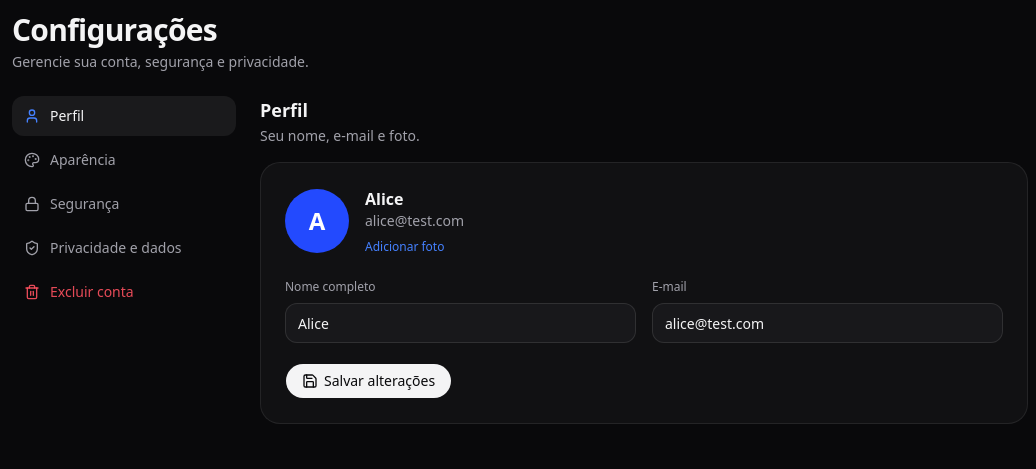
Test: Settings, step-up de senha na troca de e-mail (#153) › mapeia 429 para uma mensagem específica em vez do fallback genérico do apiErrorMessage
The width and height of the screenshot is (1036, 469).
Click the button "Salvar alterações" at x=369, y=381, box [285,363,452,399]
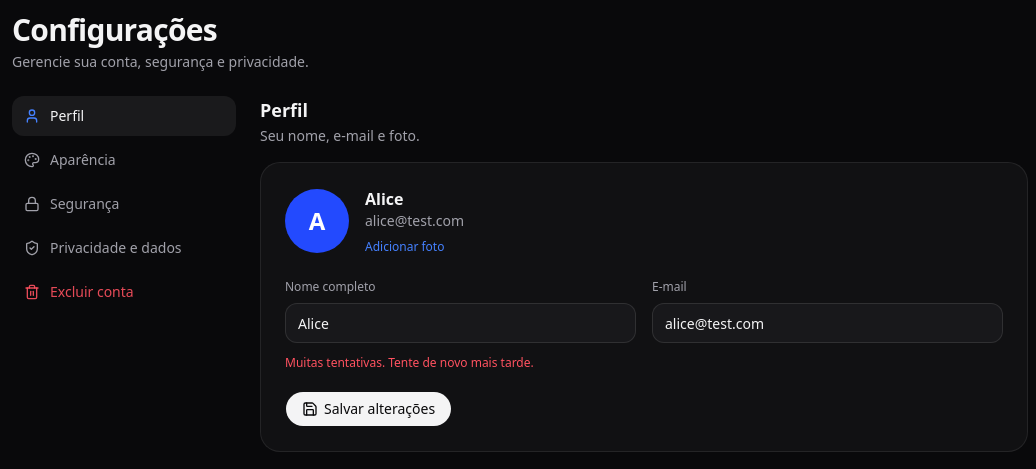
Now the message reads "Muitas tentativas. Tente de novo mais tarde.", box [285,354,534,371]
